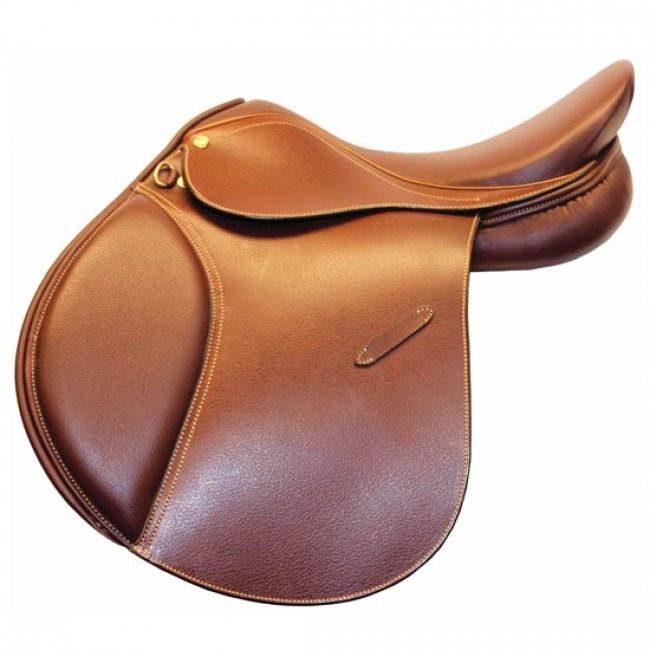saddle: (30, 57, 635, 554)
